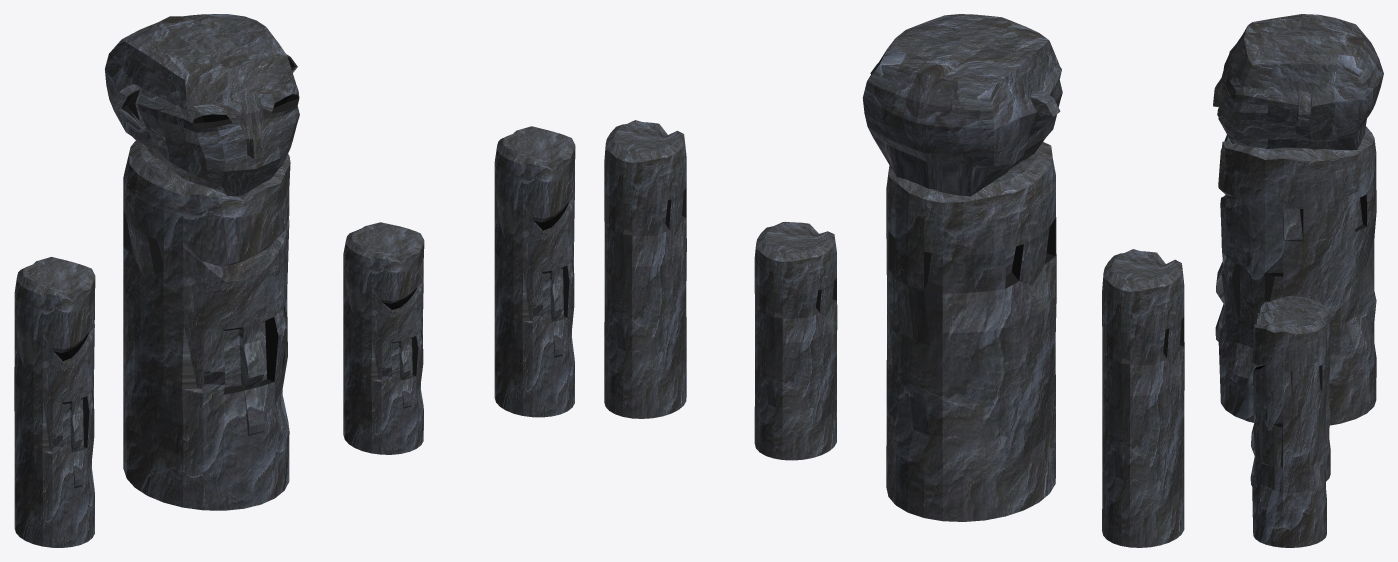
The model's file is anito-glb.glb.
3 renders of one model, left to right at view 1: azimuth 30°, elevation 25°; view 2: azimuth 150°, elevation 25°; view 3: azimuth 270°, elevation 25°, orthographic. The views are drawn at different scales.
Visible parts, largest first — view 1: head, totem.002, totem.003, totem.001; view 2: head, totem.002, totem.003, totem.001; view 3: head, totem.002, totem.001.
Boxes of the visible parts, x1,y1,x2,y2 form: head: [104, 14, 299, 510]; totem.002: [494, 126, 575, 417]; totem.003: [14, 257, 95, 547]; totem.001: [343, 222, 424, 454]; head: [862, 14, 1062, 521]; totem.002: [604, 120, 686, 418]; totem.003: [1102, 249, 1184, 547]; totem.001: [754, 222, 837, 460]; head: [1213, 14, 1383, 425]; totem.002: [1250, 305, 1326, 547]; totem.001: [1256, 296, 1330, 481].
Size of the model in its own units: 3.67 by 2.83 by 1.17.
5 materials, 2 textured.
